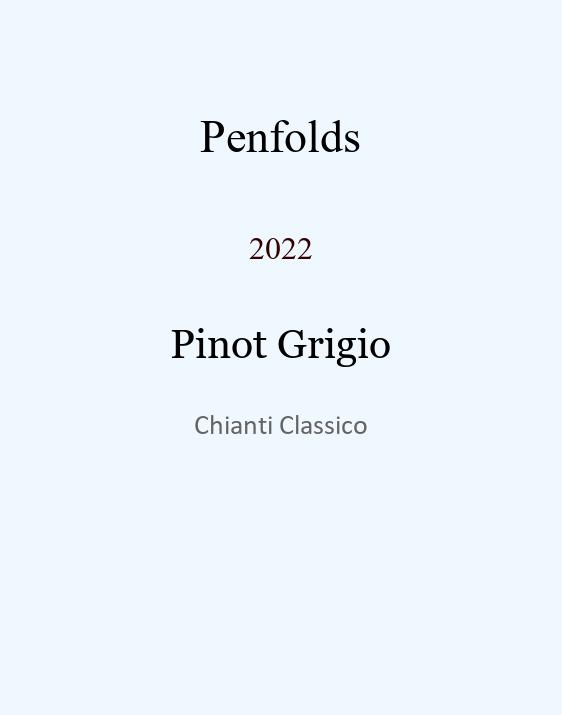brand: (200, 111, 361, 143)
region: (194, 413, 368, 432)
variety: (170, 320, 391, 359)
vintage: (249, 230, 313, 251)
